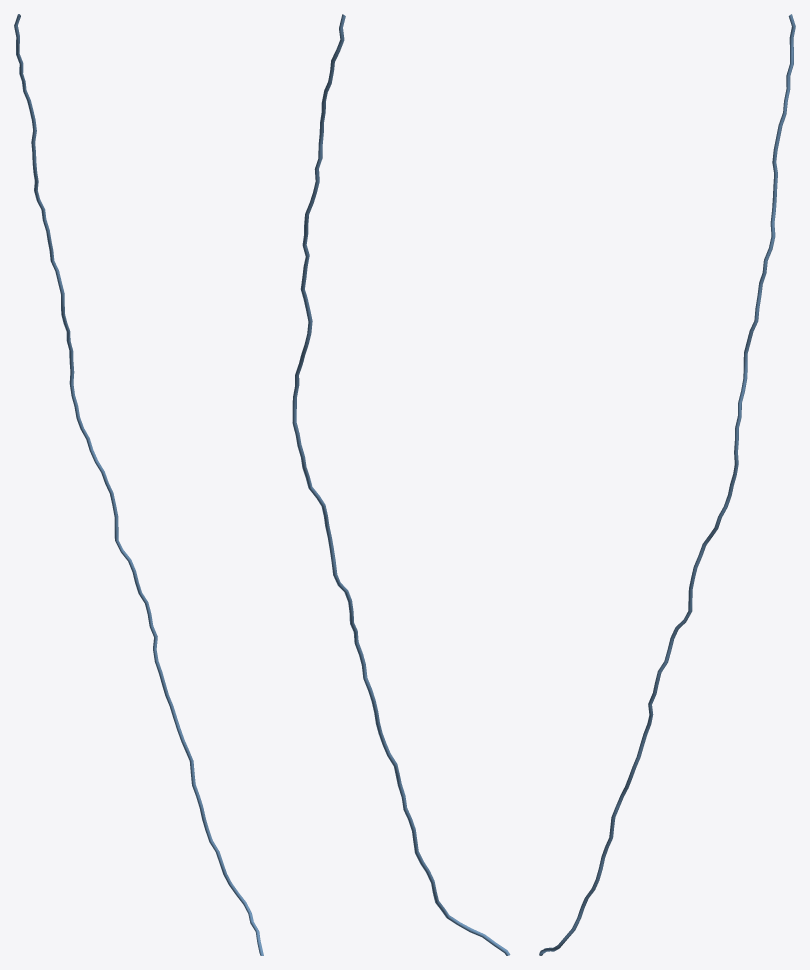
File: sweep312.fbx
3 renders of one model, left to right at view 1: azimuth 90°, elevation 25°; view 2: azimuth 150°, elevation 25°; view 3: azimuth 270°, elevation 25°, orthographic. The views are drawn at different scales.
Visible parts, largest first — view 1: sweep312; view 2: sweep312; view 3: sweep312.
Part boxes in pixels (box(x1,y1,x2,y2)): sweep312: box(14, 14, 263, 955); sweep312: box(292, 14, 510, 955); sweep312: box(539, 14, 795, 955).
Size of the model in its own units: 0.5989 by 5.3 by 1.29.
